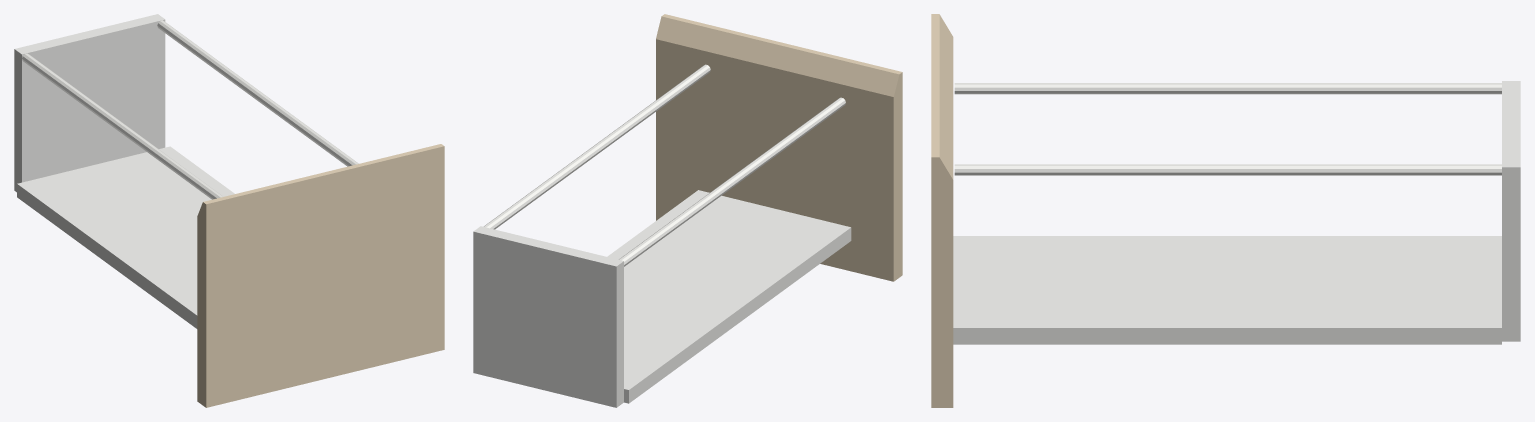
The model's file is skuff_N4_1.glb.
3 renders of one model, left to right at view 1: azimuth 30°, elevation 25°; view 2: azimuth 150°, elevation 25°; view 3: azimuth 270°, elevation 25°, orthographic. The views are drawn at different scales.
Bounding box in the file's own units: 294 × 240 × 511.
